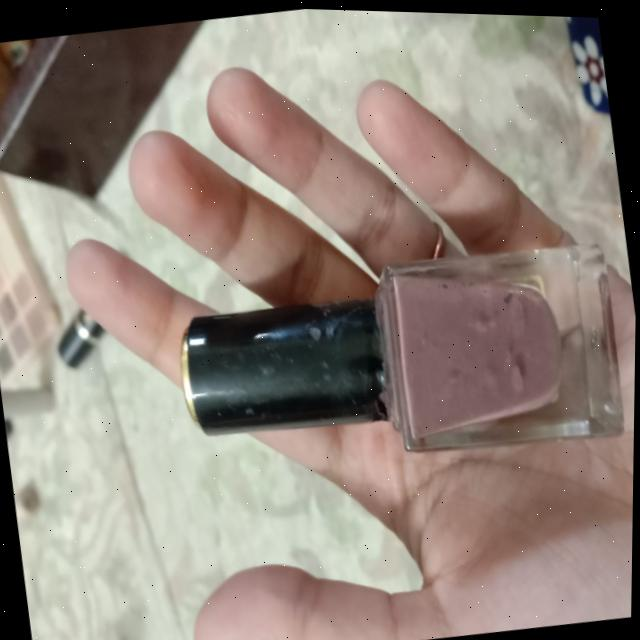nail polish: (145, 201, 638, 510)
